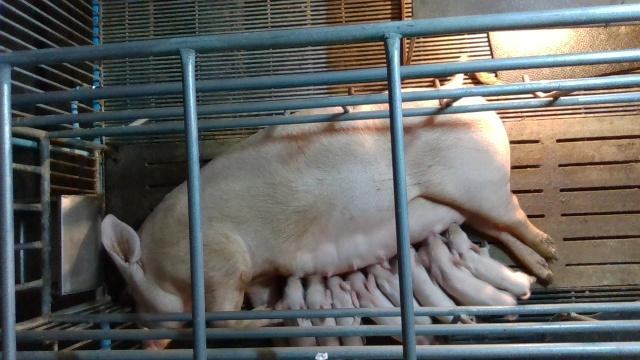piglet: (419, 232, 516, 306), (341, 271, 437, 345), (449, 223, 537, 299), (411, 246, 476, 324), (368, 263, 433, 325), (276, 276, 317, 346), (327, 276, 366, 346), (306, 274, 342, 347)
sow-sleep-lactate: (101, 54, 558, 349)
